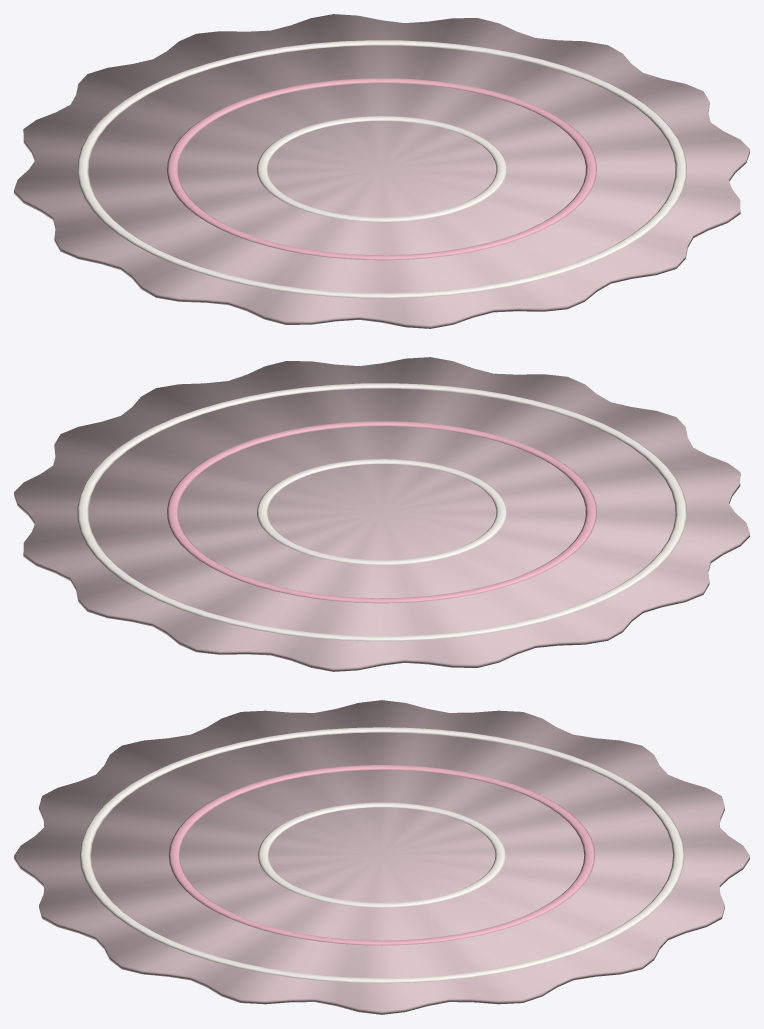
File: furn_rug.glb
3 renders of one model, top to bottom at view 1: azimuth 30°, elevation 25°; view 2: azimuth 150°, elevation 25°; view 3: azimuth 270°, elevation 25°, orthographic.
Parts seen in each view (by area): view 1: rug; view 2: rug; view 3: rug.
Boxes of the visible parts, left/top/right/bottom form: rug: left=14, top=14, right=749, bottom=328; rug: left=14, top=357, right=749, bottom=671; rug: left=14, top=700, right=749, bottom=1014.
Size of the model in its own units: 2.48 by 0.0201 by 2.48.
